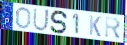1: (71, 13, 79, 36)
K: (89, 15, 102, 39)
O: (14, 6, 32, 30)
R: (104, 16, 122, 41)
S: (49, 10, 70, 35)
U: (32, 7, 51, 32)
